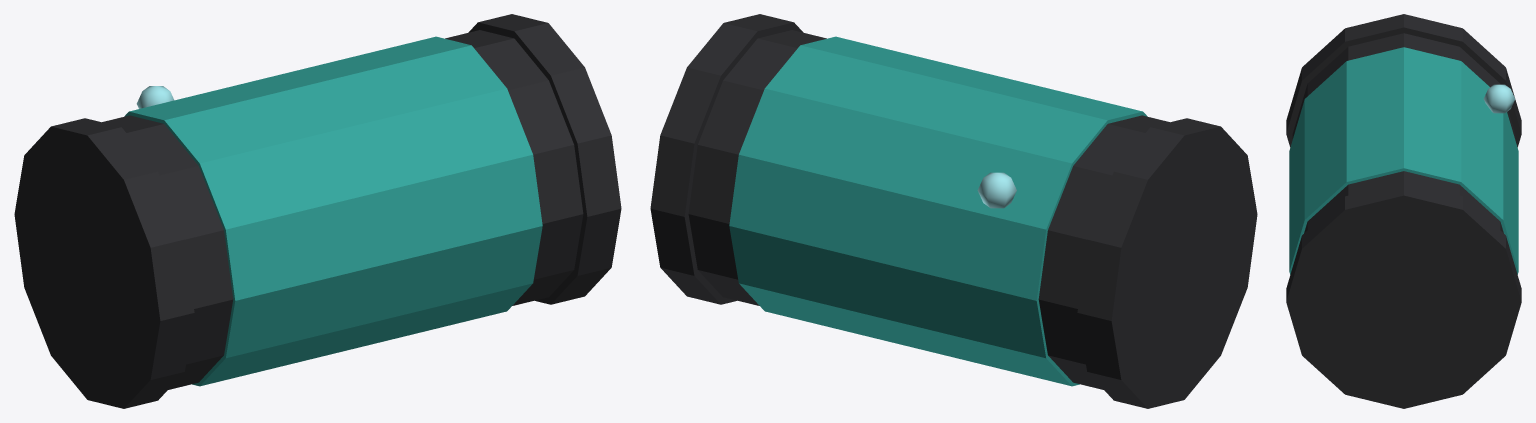
Rendered from relic_speaker.fbx.
3 views of the same model, side by side, from view 1: azimuth 30°, elevation 25°; view 2: azimuth 150°, elevation 25°; view 3: azimuth 270°, elevation 25° (orthographic). The views are drawn at different scales.
Parts seen in each view (by area): view 1: Prop; view 2: Prop; view 3: Prop.
Boxes of the visible parts, x1,y1,x2,y2 form: Prop: [14, 14, 621, 408]; Prop: [650, 14, 1257, 408]; Prop: [1286, 14, 1521, 408].
Bounding box in the file's own units: 0.27 × 0.148 × 0.148.
